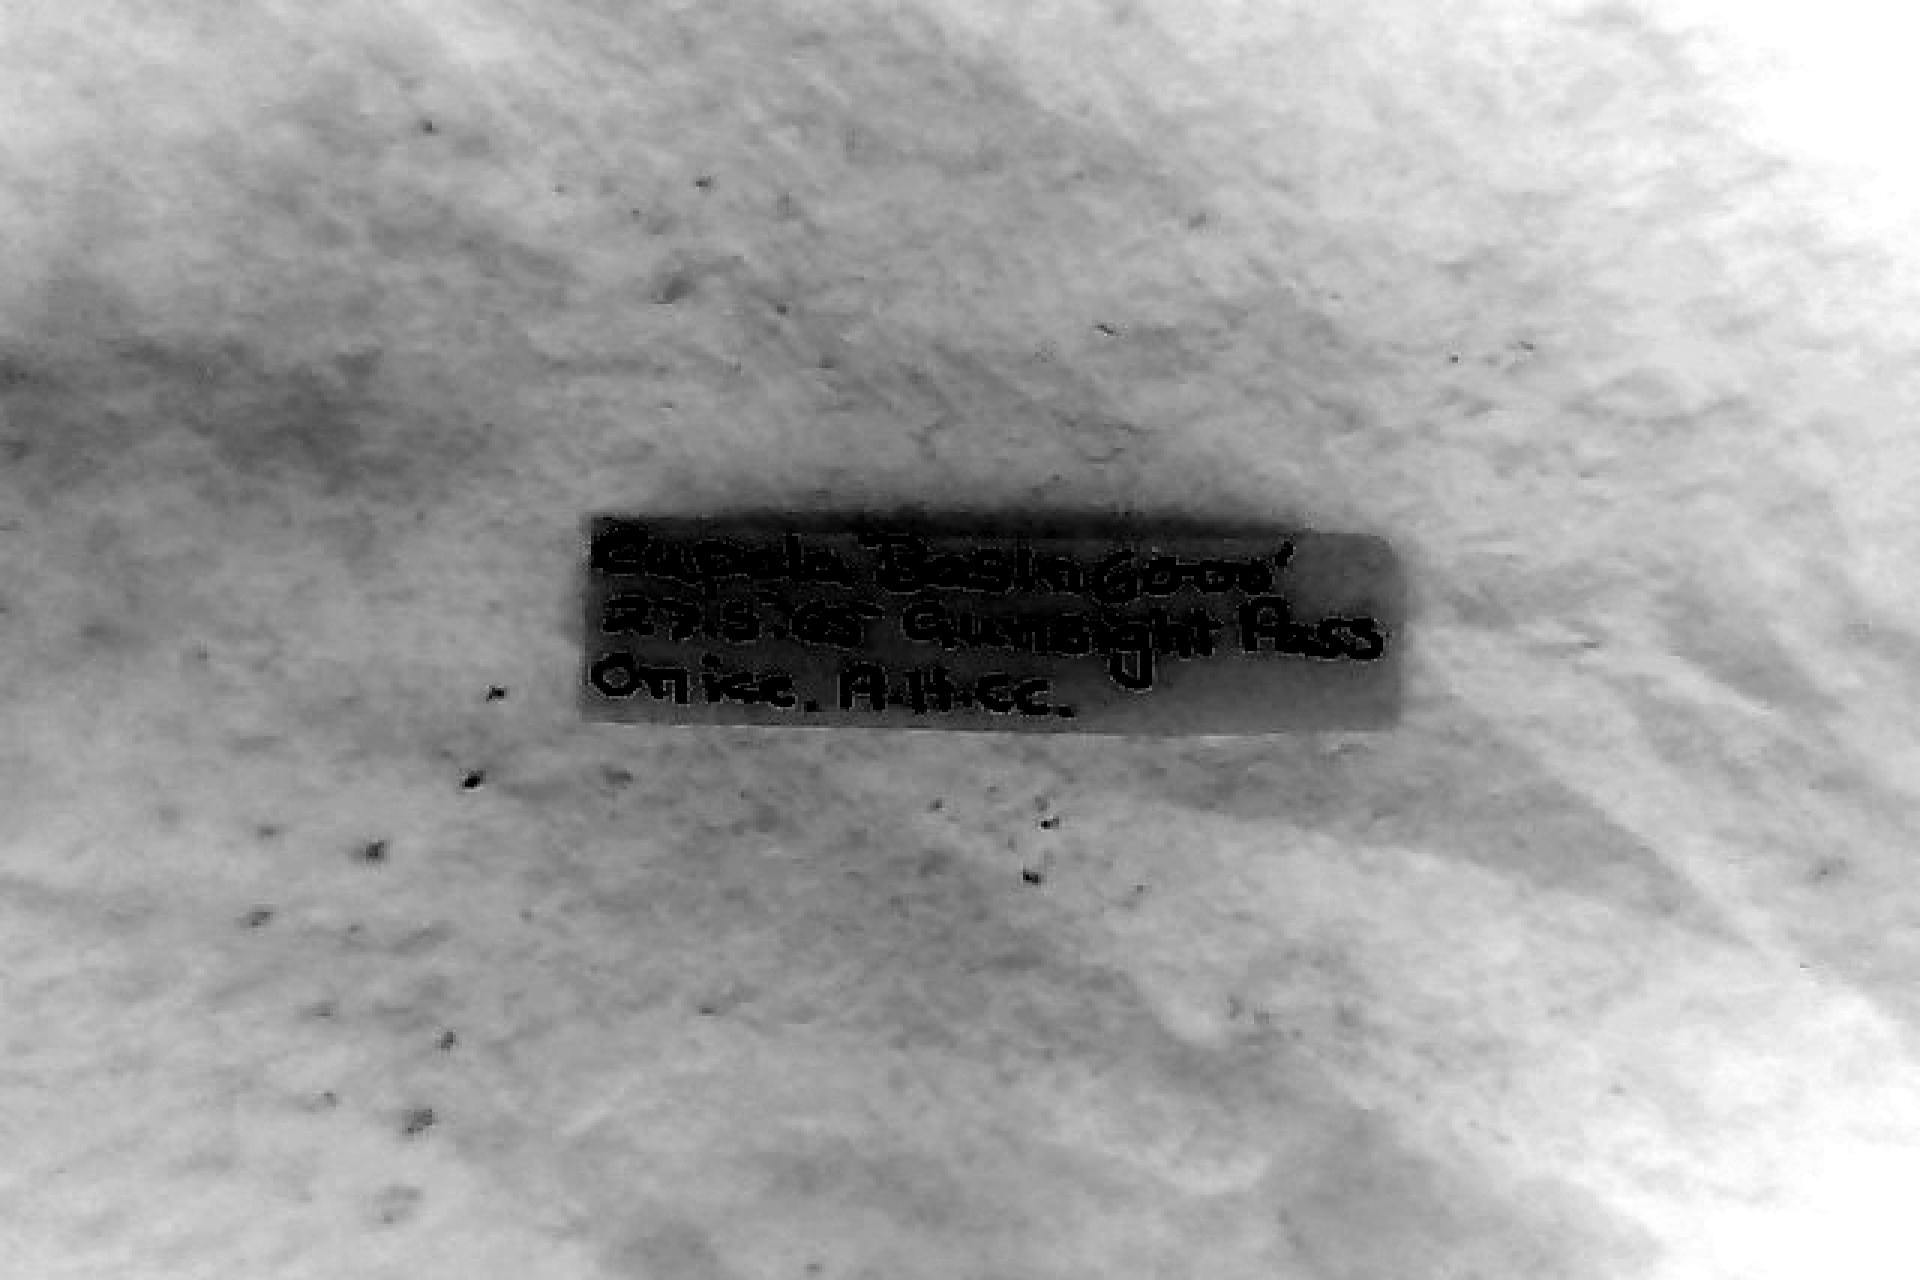hand_label: (590, 520, 1403, 731)
